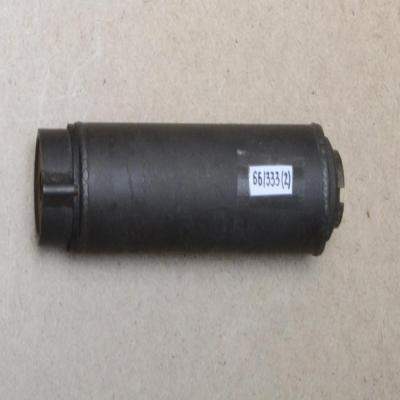weapon: (33, 122, 345, 258)
